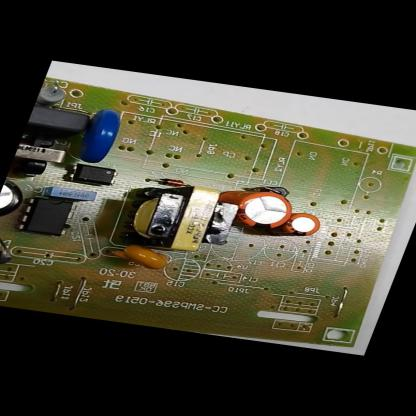Cap1: (232, 189, 296, 230)
Cap2: (283, 211, 323, 237)
Cap3: (0, 178, 29, 218)
MOSFET: (16, 196, 80, 237)
Mov: (80, 107, 127, 163)
Resistor: (35, 82, 69, 107)
Transformer: (114, 178, 244, 256), (9, 130, 68, 178)
